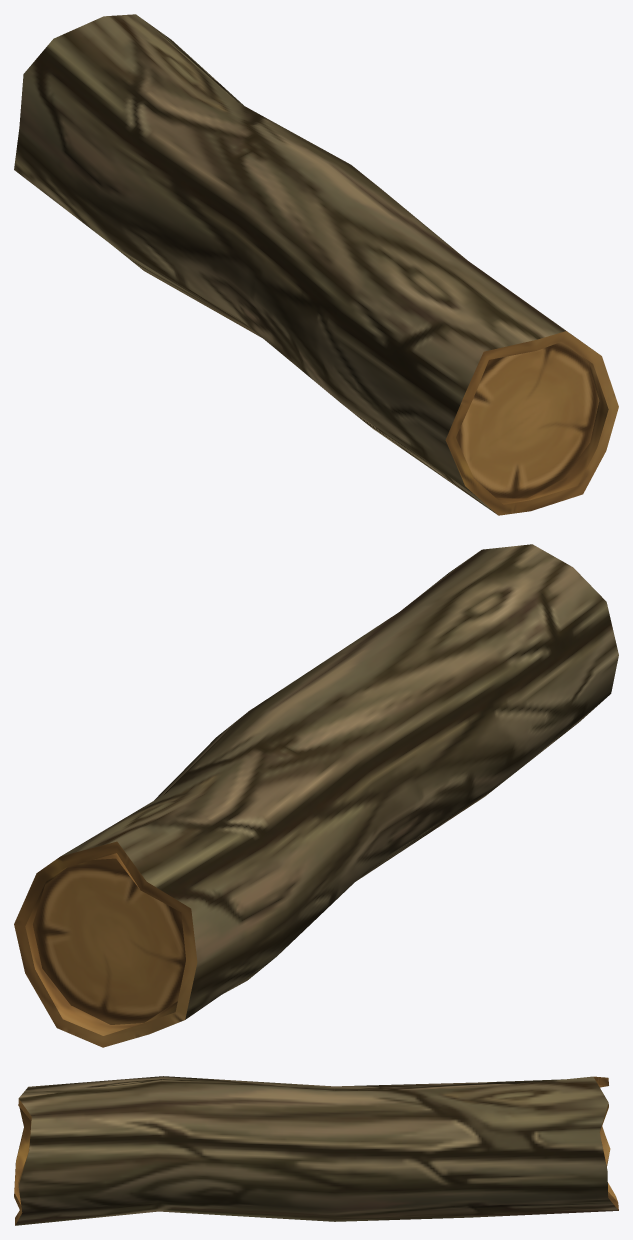
The model's file is Log01.fbx.
3 renders of one model, top to bottom at view 1: azimuth 30°, elevation 25°; view 2: azimuth 150°, elevation 25°; view 3: azimuth 270°, elevation 25°, orthographic. The views are drawn at different scales.
Parts seen in each view (by area): view 1: Log01_LOD0; view 2: Log01_LOD0; view 3: Log01_LOD0.
Boxes of the visible parts, bbox=[...] form: Log01_LOD0: bbox=[14, 14, 618, 515]; Log01_LOD0: bbox=[14, 544, 618, 1047]; Log01_LOD0: bbox=[14, 1076, 618, 1225].
Size of what is drawn, in the model's own units: 11.53 by 11.52 by 46.59.
